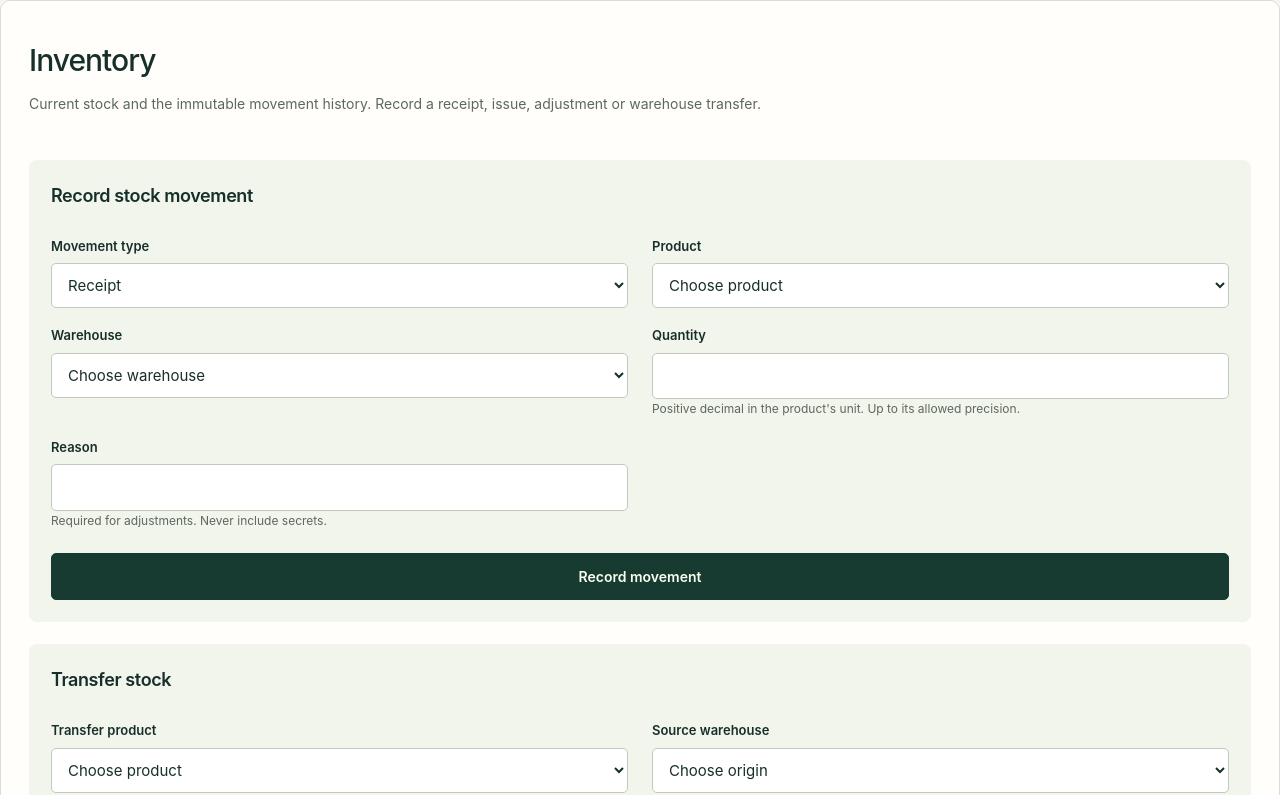
Test: explains stock command recovery for HTTP 404
The image size is (1280, 795).
Select "RICE · Rice (KG)" in the dropdown labelled "Product": point(940, 286) x1=652 y1=263 x2=1229 y2=308
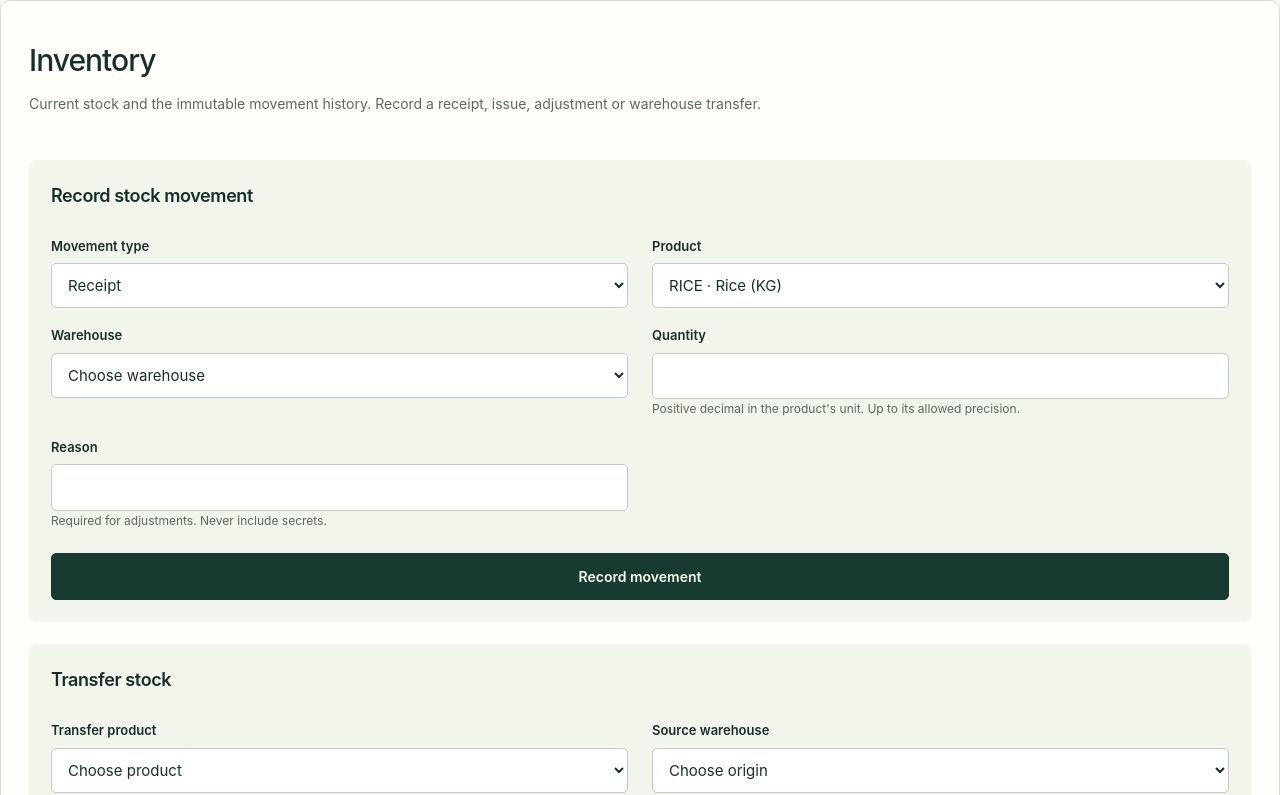
Select "MAIN · Main" in the dropdown labelled "Warehouse": point(340, 375) x1=51 y1=353 x2=628 y2=398
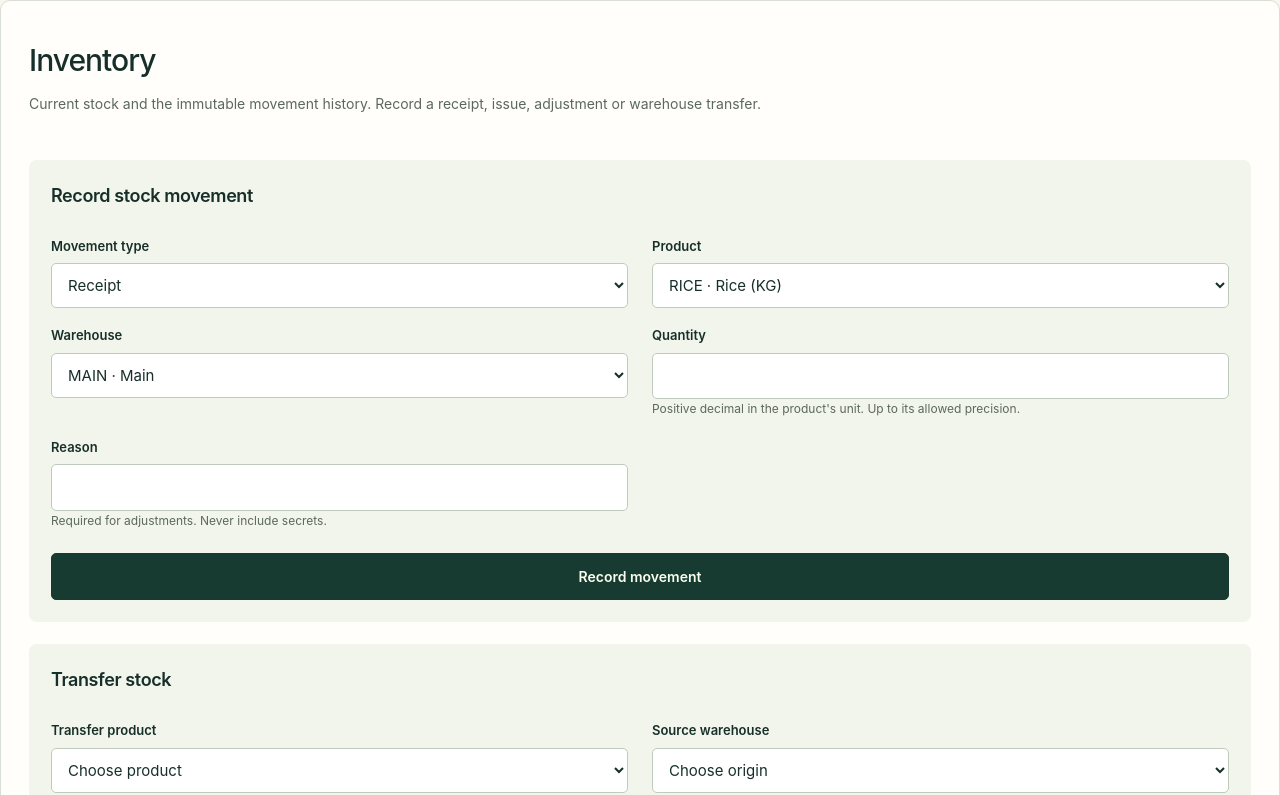
In the field labelled "Quantity": point(940, 376) x1=652 y1=353 x2=1229 y2=399, type "1"
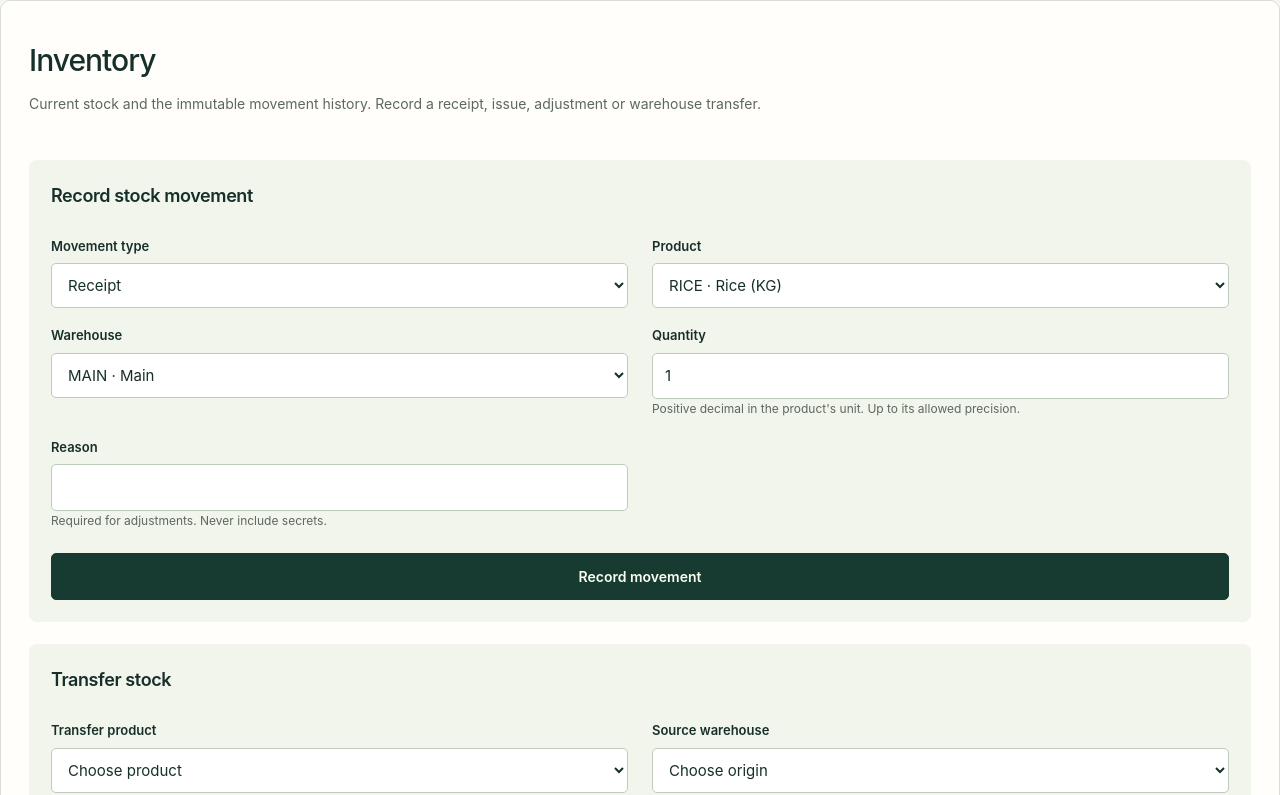
Submit the form "Record stock movement", box x1=29 y1=160 x2=1251 y2=622
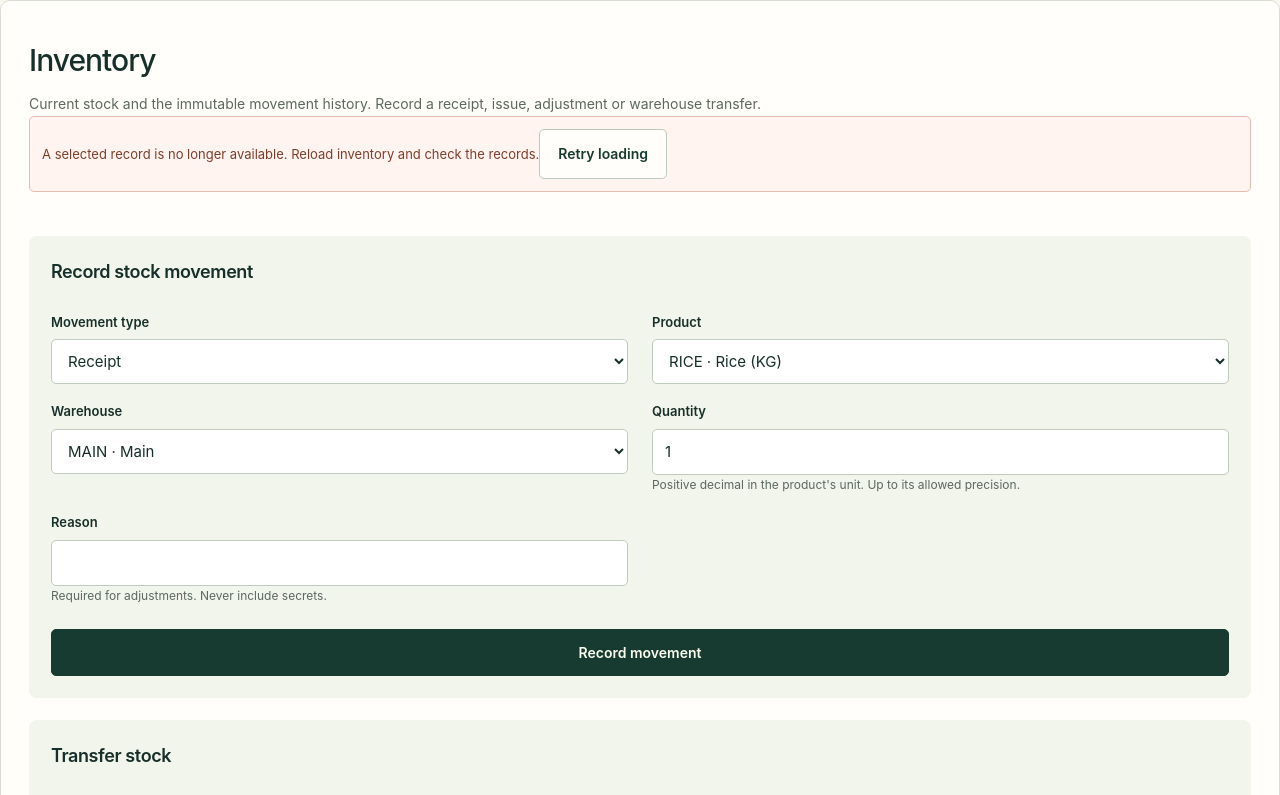
Expected: the message shows "no longer available", x1=42 y1=146 x2=539 y2=162
